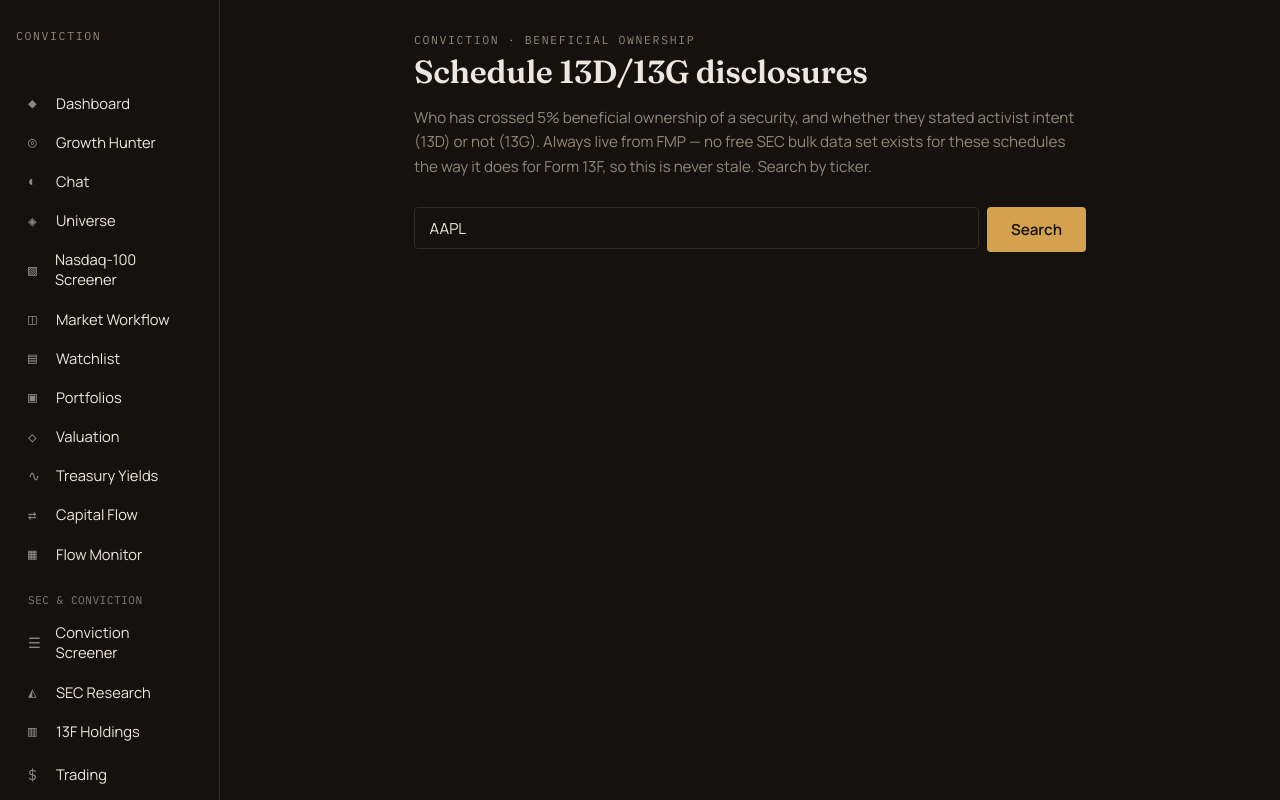
it: Beneficial Ownership page › displays a real 13G disclosure with its reporting person and percentage
The image size is (1280, 800).
Click the button "Search" at (1036, 229), box [987,207,1086,252]
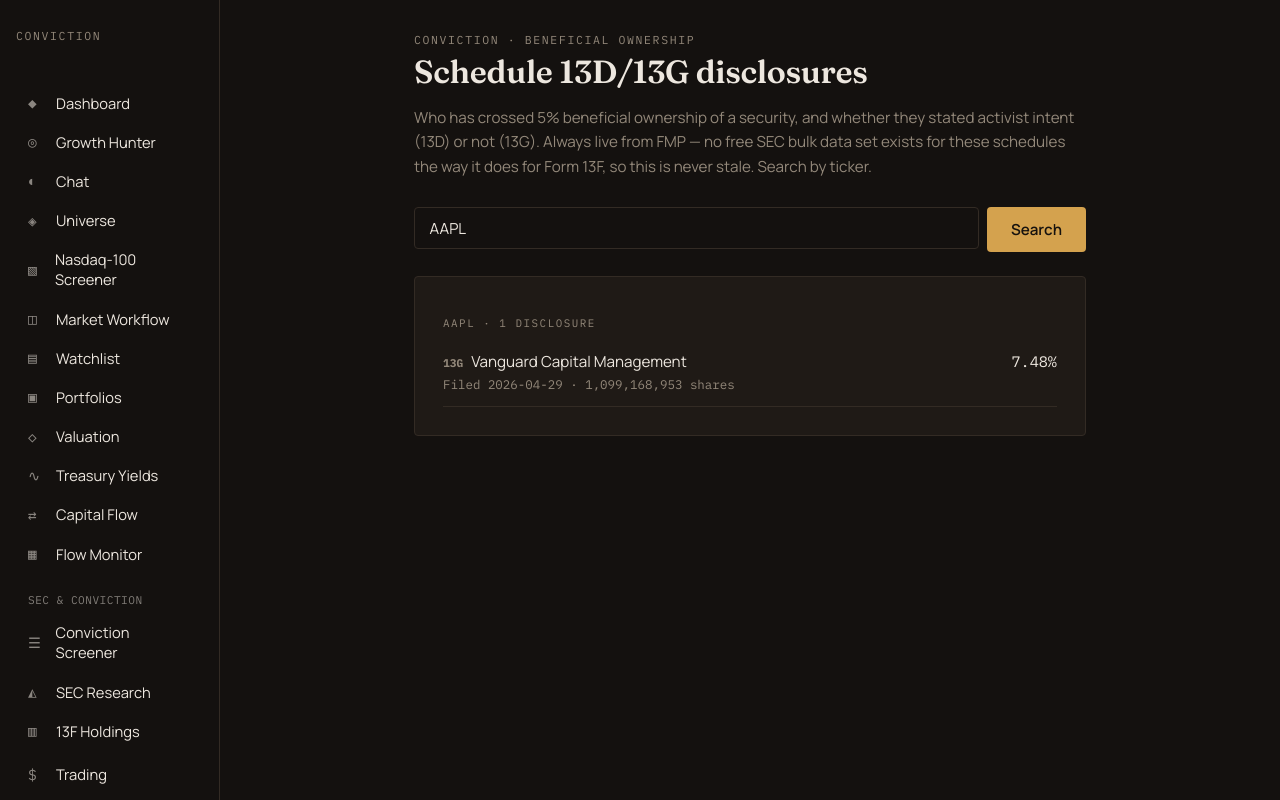
Result: the text "Vanguard Capital Management" is shown at [471,351,687,372]
Result: the text "7.48%" is shown at [1011,351,1057,371]
Result: the text "13G" is shown at [443,356,463,370]
